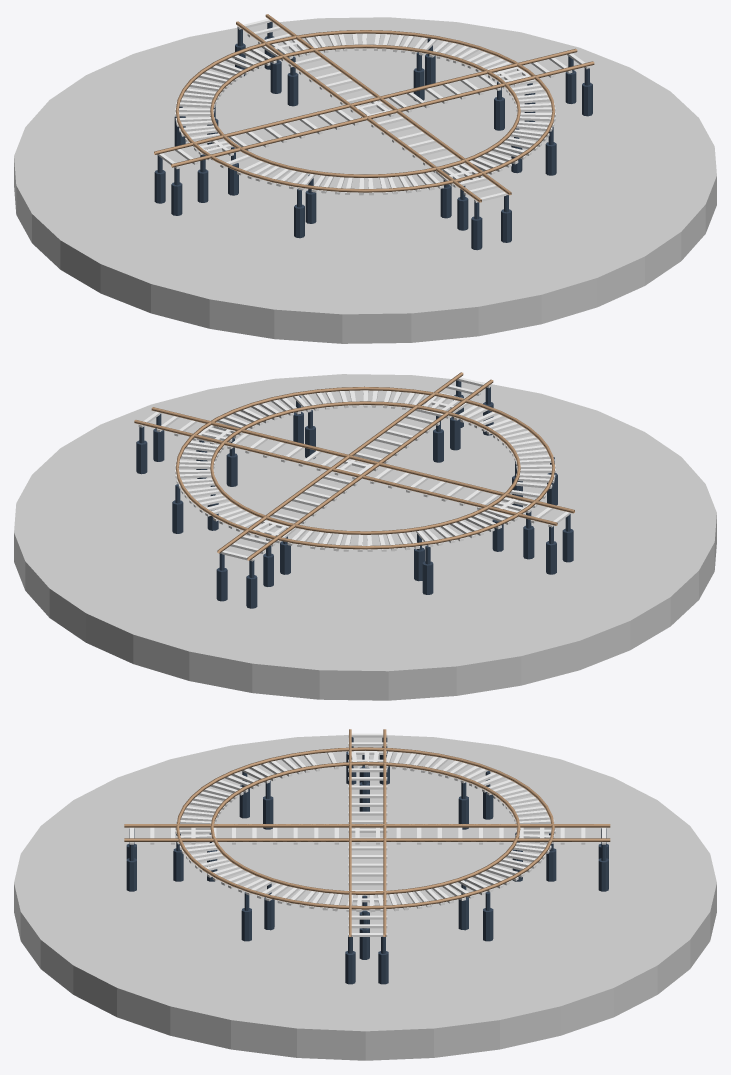
Rendered from RollerCoaster_018.fbx.
3 views of the same model, one above another, from view 1: azimuth 30°, elevation 25°; view 2: azimuth 150°, elevation 25°; view 3: azimuth 270°, elevation 25° (orthographic).
Parts seen in each view (by area): view 1: Cylinder.005, RailStep.083, Columns.044, Path.091, Path.094, RailStep.091, Path.092, RailStep.092; view 2: Cylinder.005, RailStep.083, Columns.044, Path.091, Path.094, RailStep.091, Path.092, RailStep.092; view 3: Cylinder.005, RailStep.083, Columns.044, Path.091, Path.092, RailStep.092, RailStep.091, Path.094.
Part boxes in pixels (x1,y1,x2,y2): Cylinder.005: (14, 17, 716, 343); RailStep.083: (175, 33, 555, 195); Columns.044: (154, 21, 592, 250); Path.091: (176, 30, 554, 192); Path.094: (154, 48, 594, 167); RailStep.091: (237, 19, 508, 202); Path.092: (236, 14, 511, 202); RailStep.092: (157, 53, 589, 168); Cylinder.005: (14, 374, 716, 700); RailStep.083: (175, 390, 555, 551); Columns.044: (136, 380, 573, 608); Path.091: (176, 386, 554, 549); Path.094: (134, 407, 574, 525); RailStep.091: (220, 377, 491, 561); Path.092: (217, 372, 493, 560); RailStep.092: (138, 411, 571, 527); Cylinder.005: (14, 735, 716, 1060); RailStep.083: (175, 751, 555, 912); Columns.044: (126, 737, 608, 984); Path.091: (176, 747, 554, 909); Path.092: (124, 824, 610, 841); RailStep.092: (348, 733, 387, 936); RailStep.091: (129, 827, 605, 844); Path.094: (349, 729, 386, 936).
Size of the model in its own units: 4326 by 578 by 4326.
